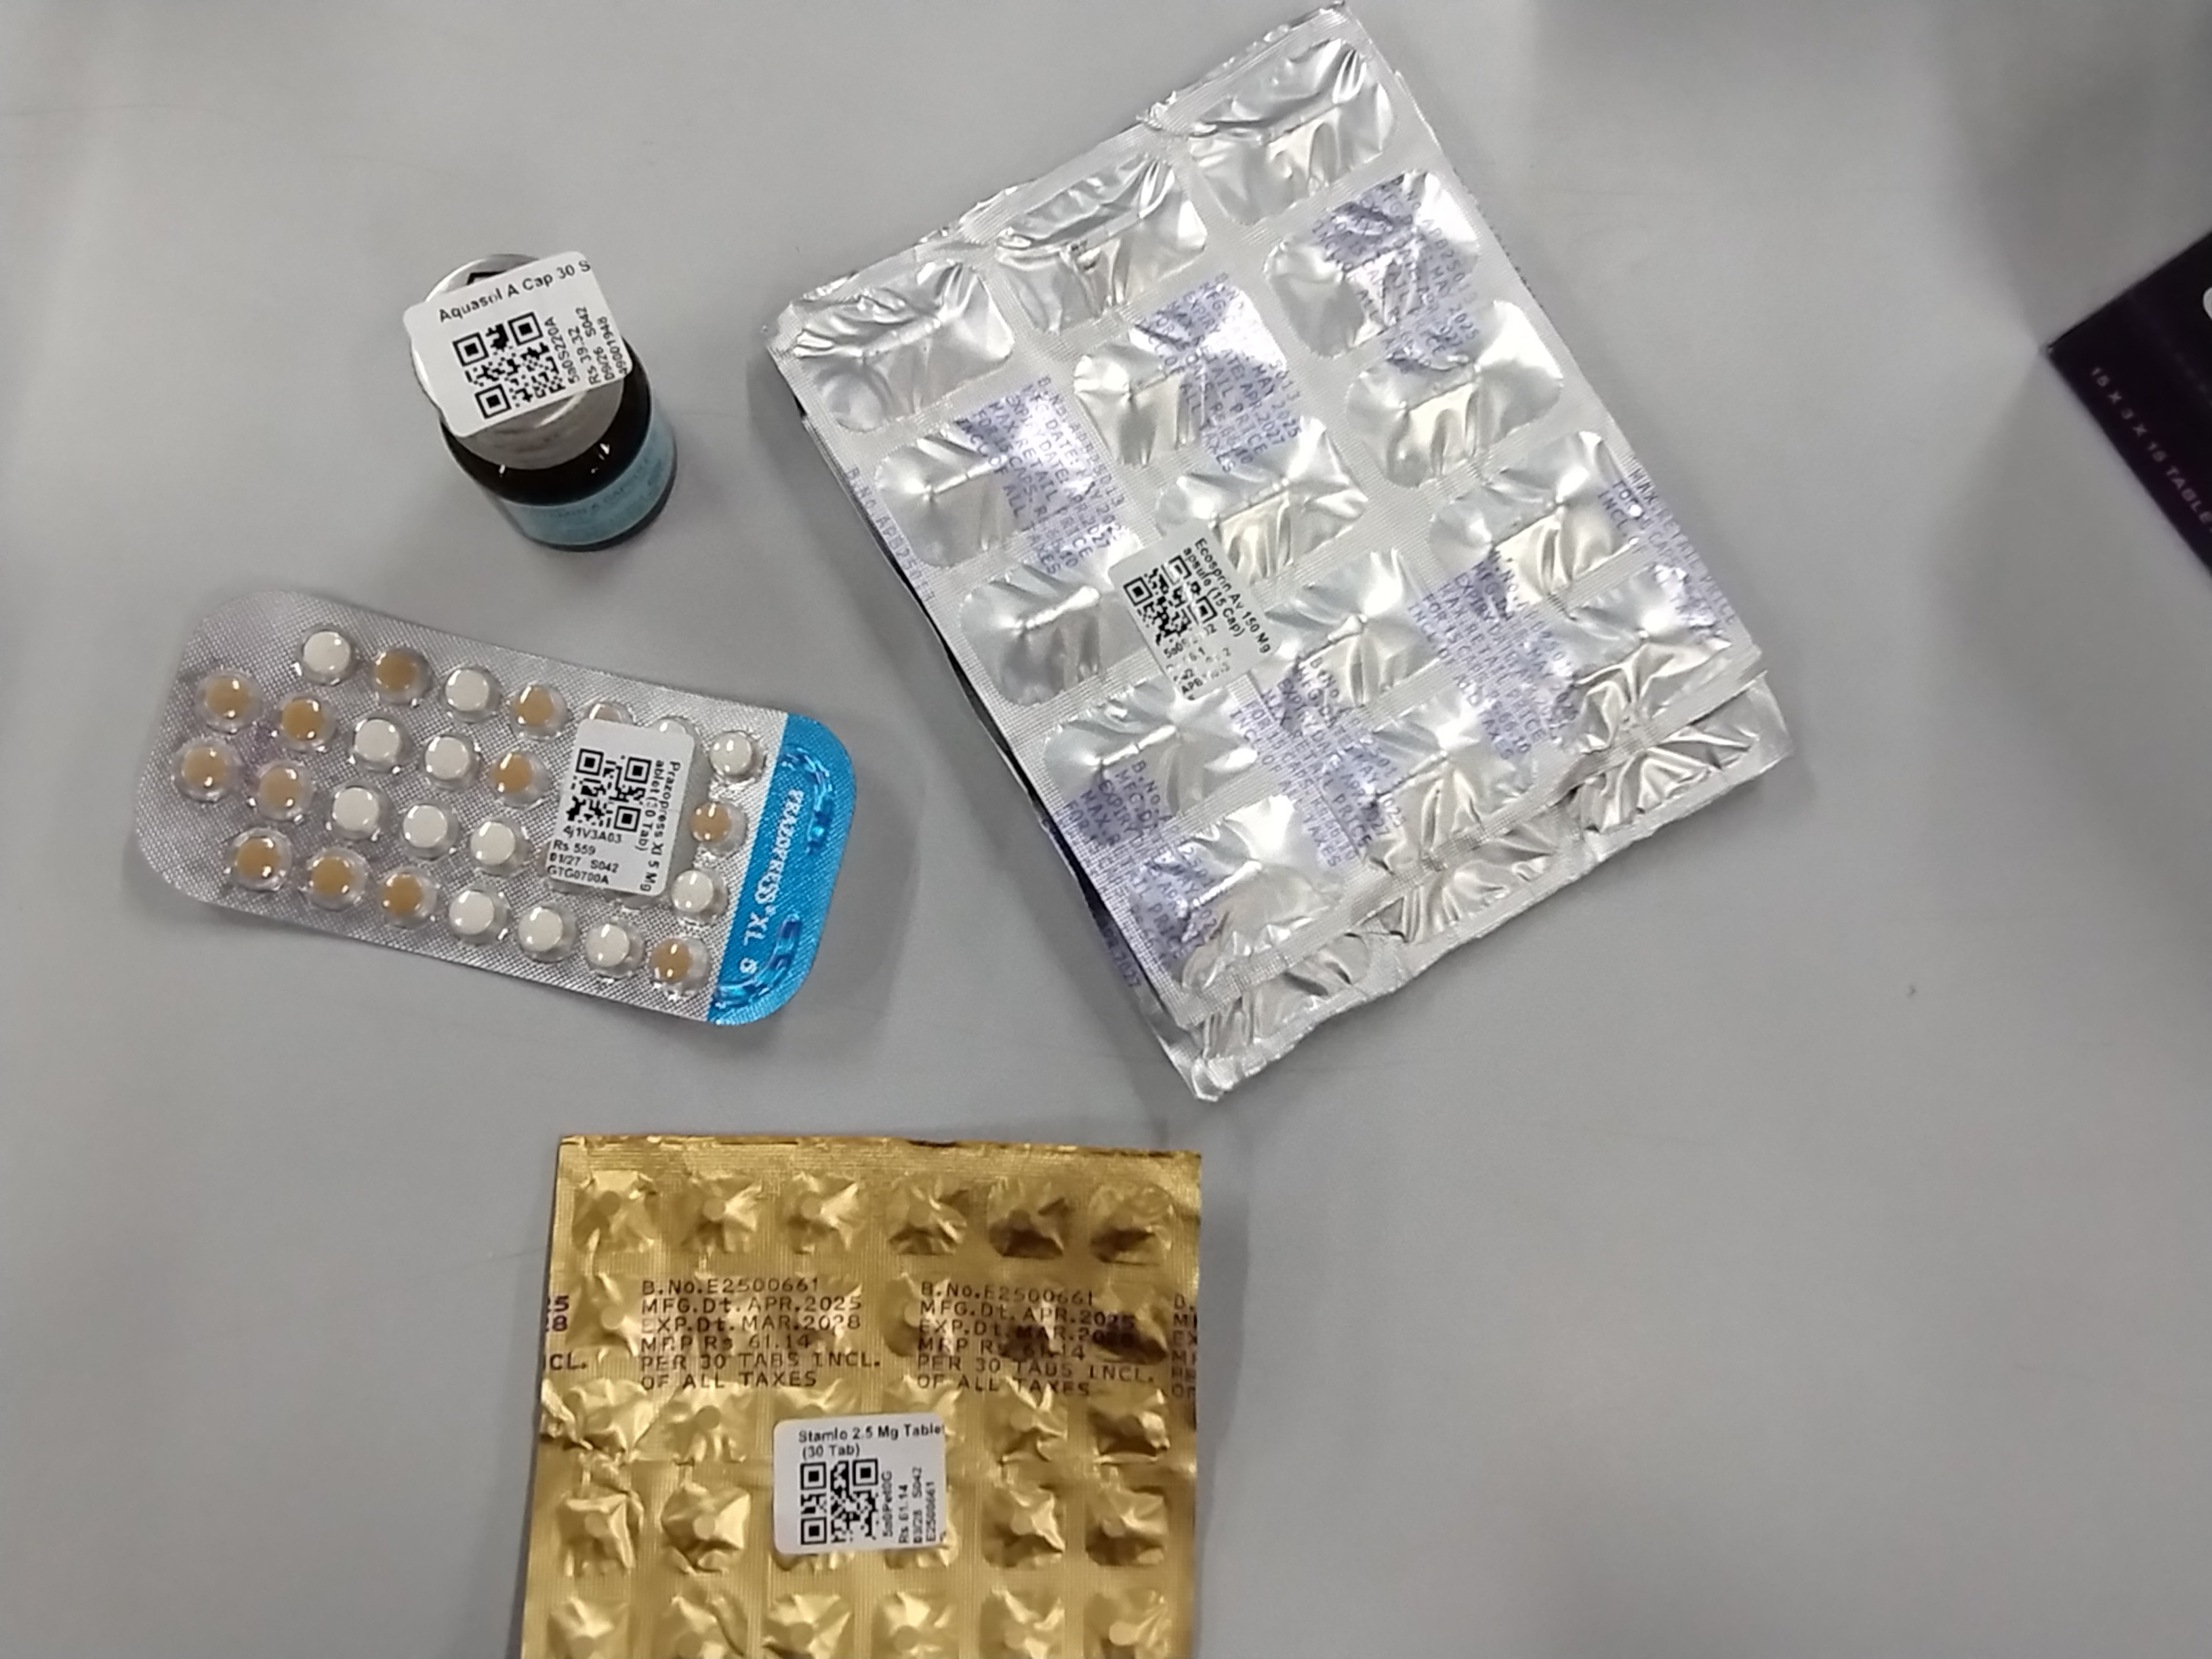QR: (563, 704, 651, 789)
